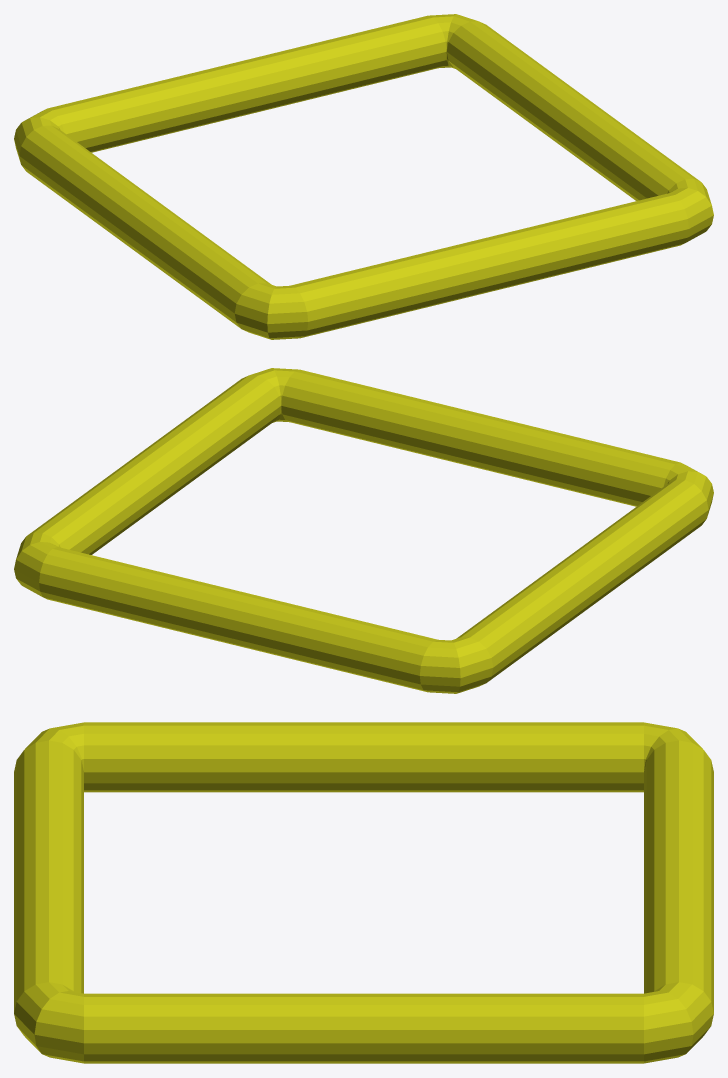
File: pipe__gate_2meter.obj
The picture shows the model from 3 angles, top to bottom: view 1: azimuth 30°, elevation 25°; view 2: azimuth 150°, elevation 25°; view 3: azimuth 270°, elevation 25°; orthographic projection. The views are drawn at different scales.
Bounding box in the file's own units: 30.5 × 3 × 30.
